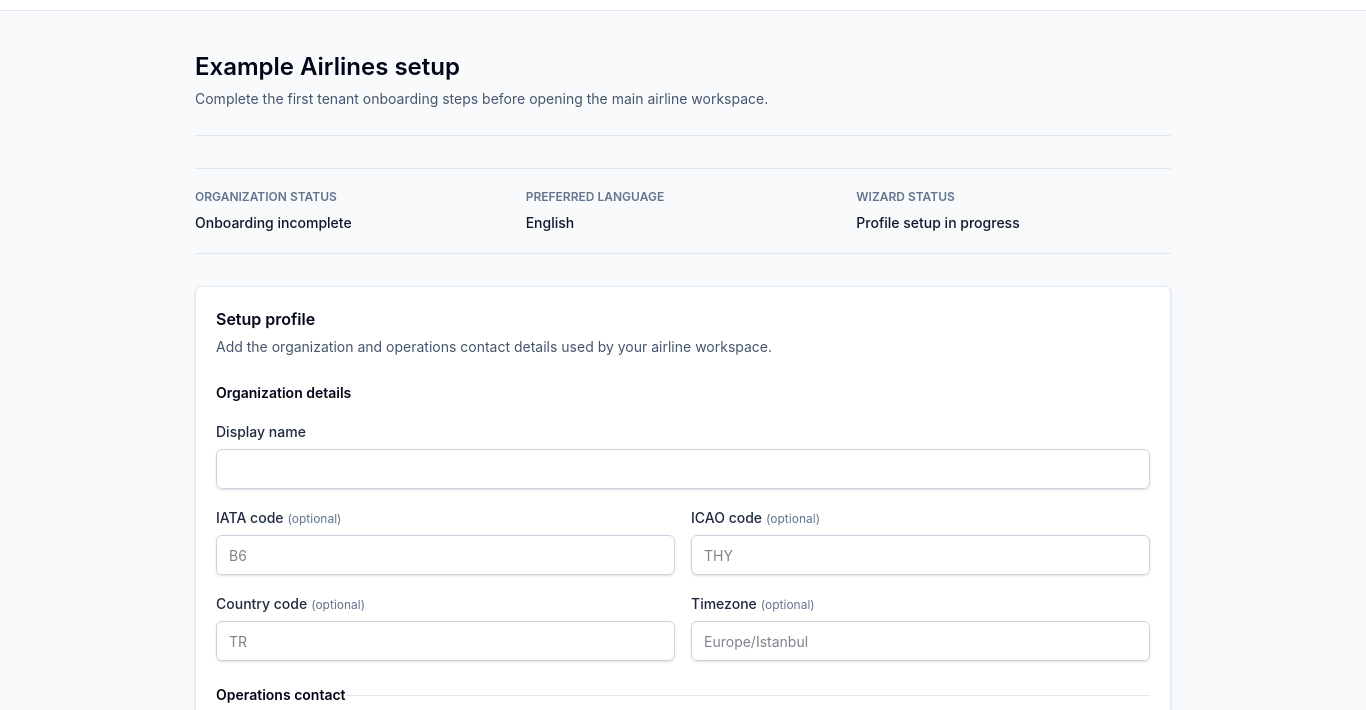
Scenario: AppSetupPage › blocks PUT when ICAO code is invalid
This screenshot has width=1366, height=710.
Type "Airline Tenant" into the field labelled "Display name" at point(683, 469), box [216,449,1150,489]
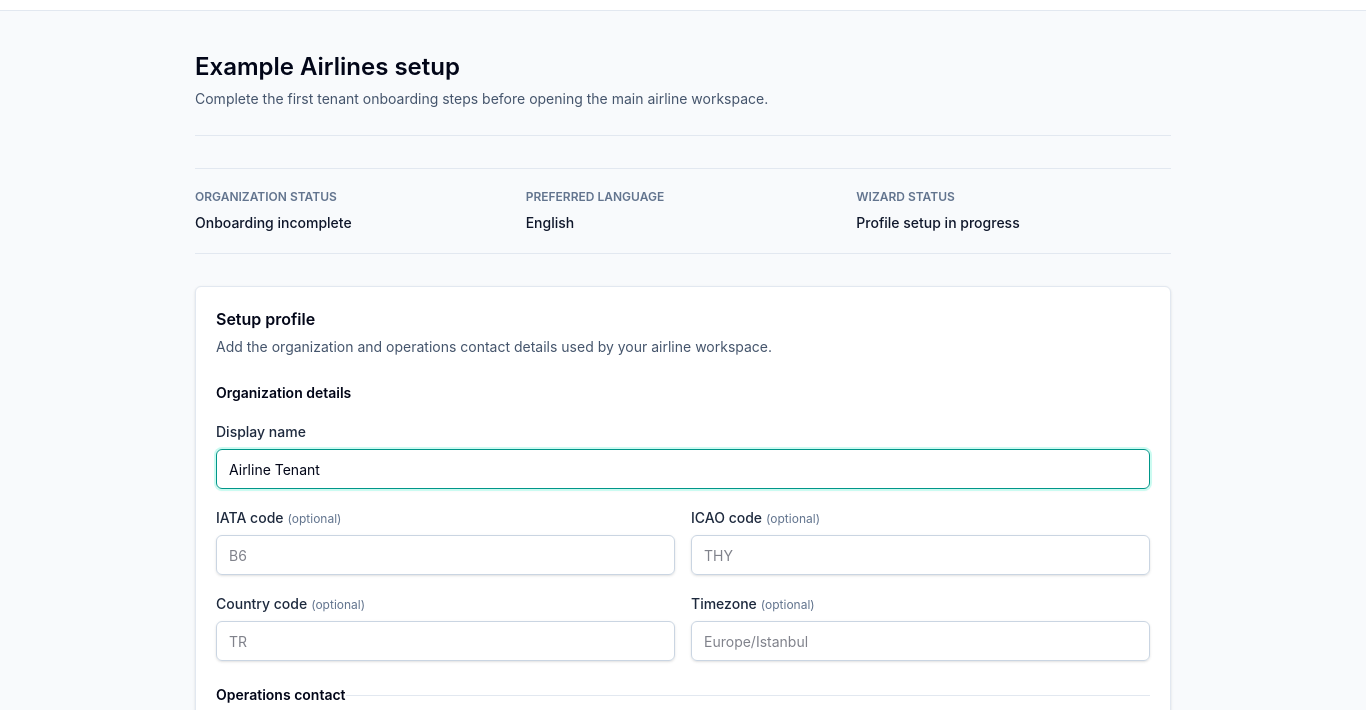
Type "A1B" into the field labelled "ICAO code(optional)" at point(920, 555), box [691,535,1150,575]
(page scrolled)
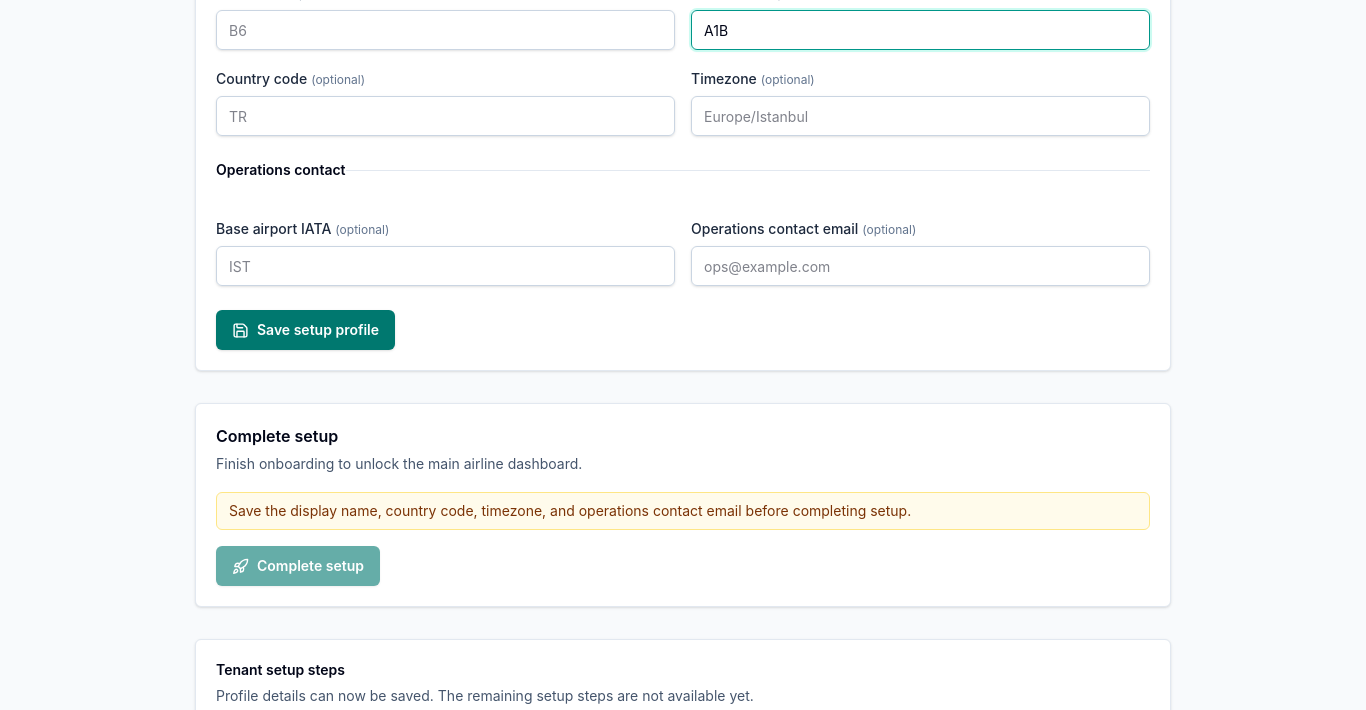
Click the button "Save setup profile" at point(306, 330), box [216,310,395,350]
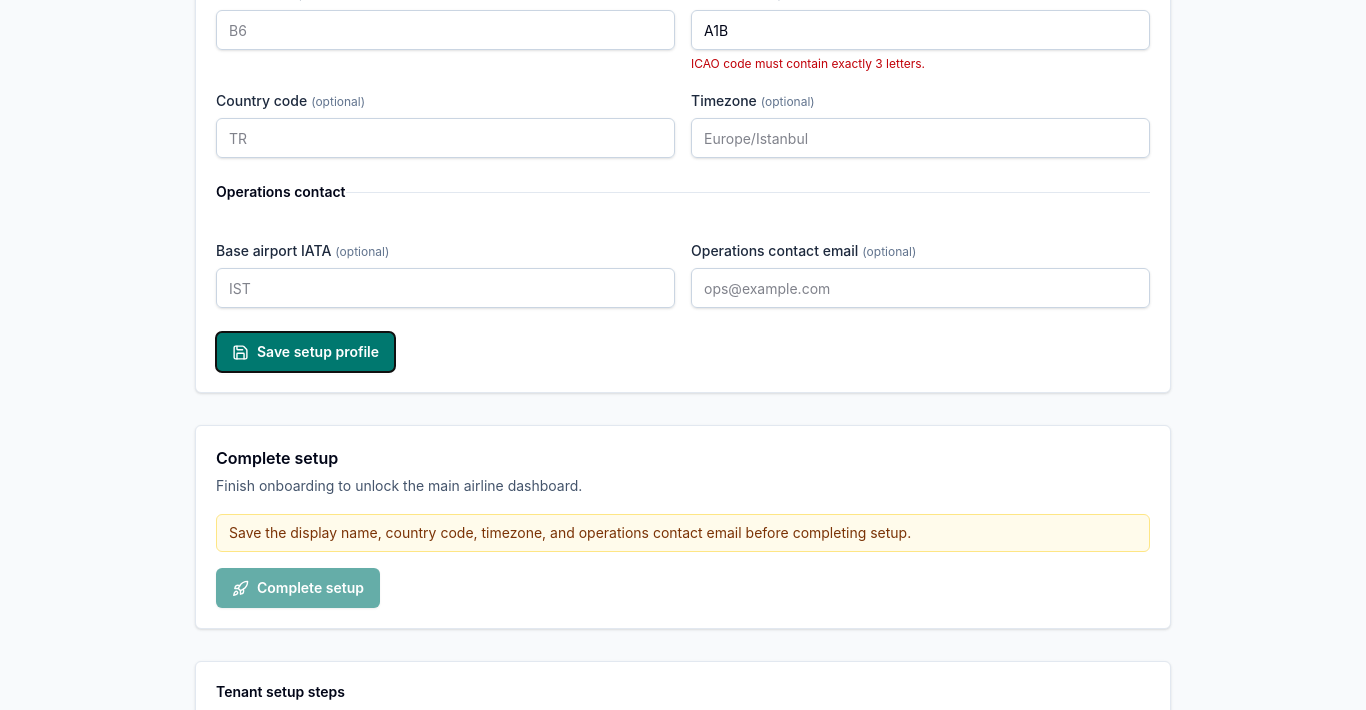
Now the text "ICAO code must contain exactly 3 letters." is shown, box [691,56,925,71]
